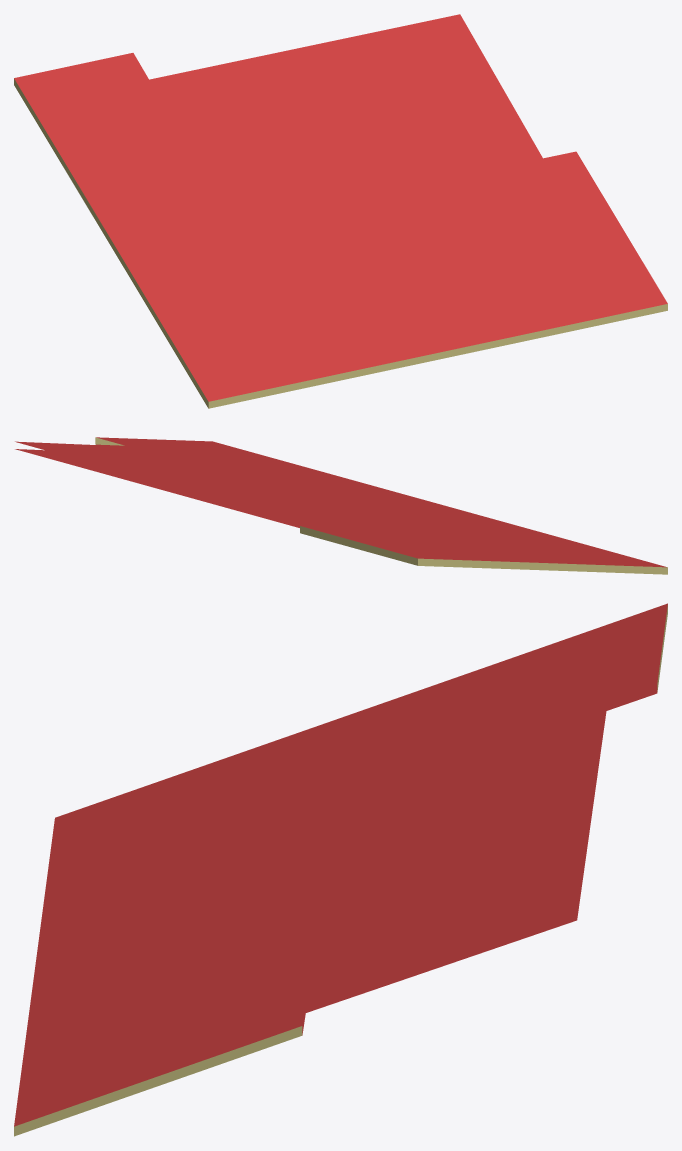
The picture shows the model from 3 angles, top to bottom: view 1: azimuth 30°, elevation 25°; view 2: azimuth 150°, elevation 25°; view 3: azimuth 270°, elevation 25°; orthographic projection. The views are drawn at different scales.
Size of the model in its own units: 6.88 by 6.02 by 2.42.
